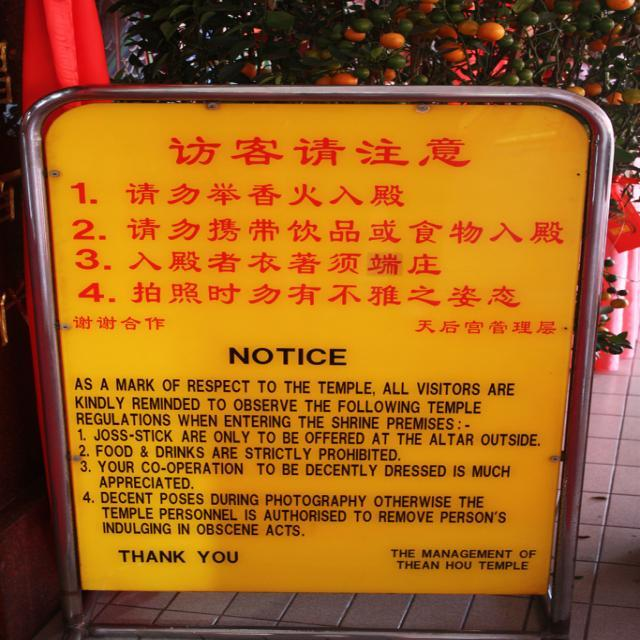Orange: (477, 21, 503, 45), (595, 0, 637, 14), (580, 76, 609, 96), (240, 53, 260, 75), (333, 76, 373, 86), (377, 31, 403, 46), (450, 1, 480, 13), (603, 92, 623, 110), (491, 0, 516, 10), (431, 26, 455, 36), (585, 34, 598, 50), (416, 0, 435, 10), (250, 26, 263, 39), (354, 23, 364, 37), (570, 85, 574, 92)
